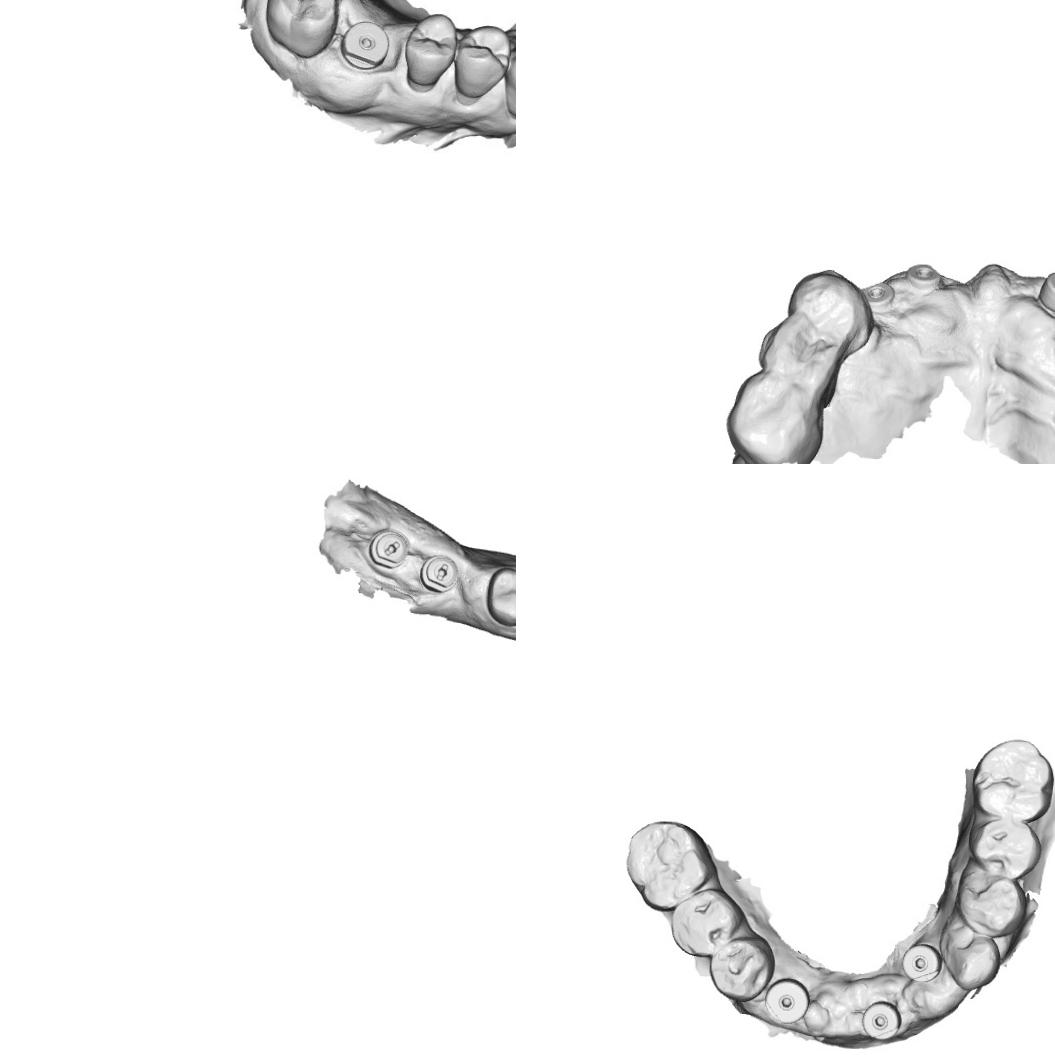canine: (940, 923, 1002, 992)
implant: (340, 21, 388, 73), (763, 978, 811, 1024), (861, 998, 904, 1044), (901, 943, 944, 982), (903, 260, 943, 292), (860, 279, 895, 308), (1036, 270, 1055, 313)
implant_minus: (365, 526, 409, 570), (418, 553, 460, 594)
molar: (724, 372, 826, 464), (622, 818, 719, 912), (973, 737, 1055, 822), (263, 0, 343, 51)
premolar: (785, 266, 876, 347), (752, 314, 841, 395), (668, 884, 746, 960), (970, 816, 1044, 880), (958, 872, 1027, 940), (708, 936, 774, 1000), (455, 27, 507, 100), (409, 15, 454, 88), (485, 567, 516, 628)
